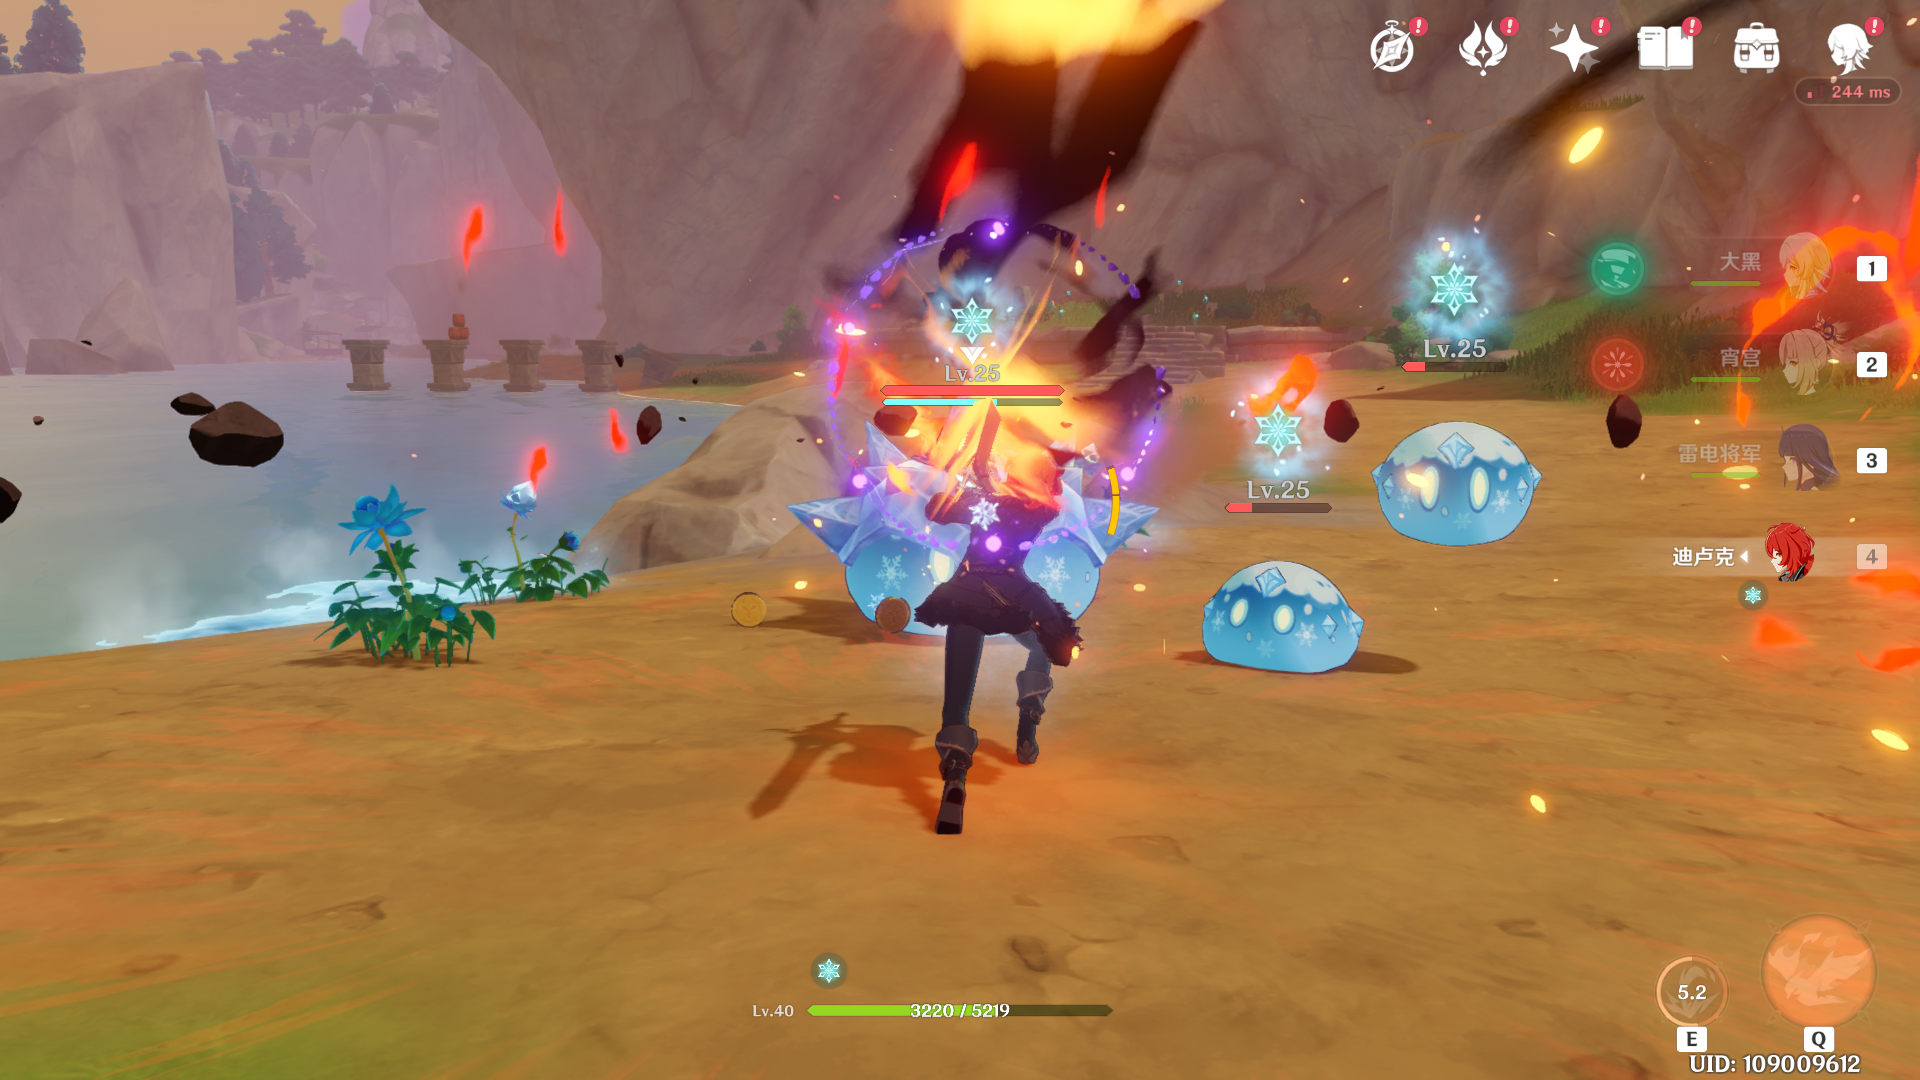character: (907, 404, 1113, 878)
slime: (785, 396, 1154, 675), (1178, 542, 1400, 731), (1350, 405, 1565, 578)
